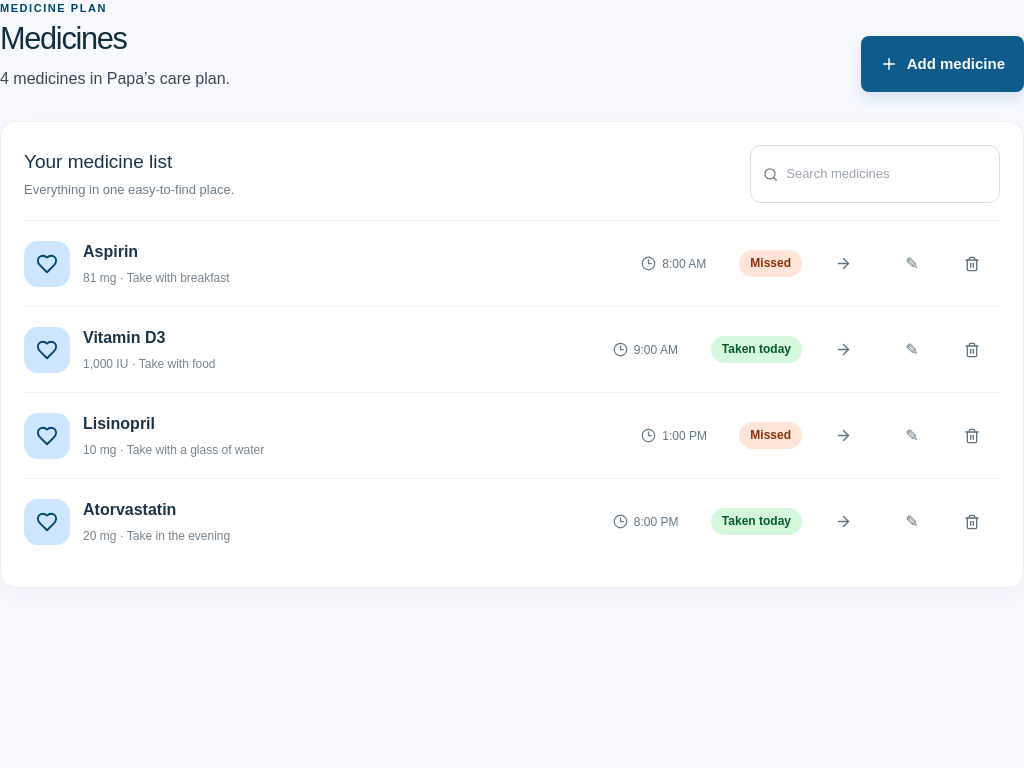
Test: medicine editor › shows accessible errors rather than saving invalid medicine fields
Click the button "Add medicine".
click(942, 64)  # box [861,36,1023,92]
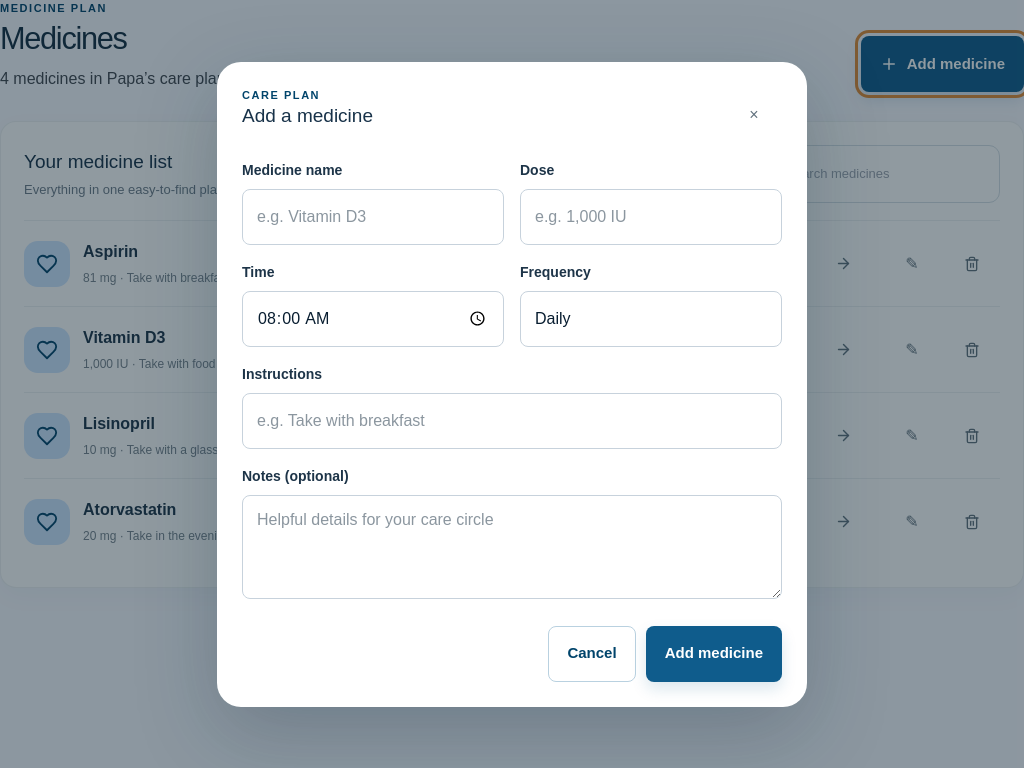
Type "<script>" into the field labelled "Medicine name".
click(373, 216); type("<script>")  # box [242,188,504,244]
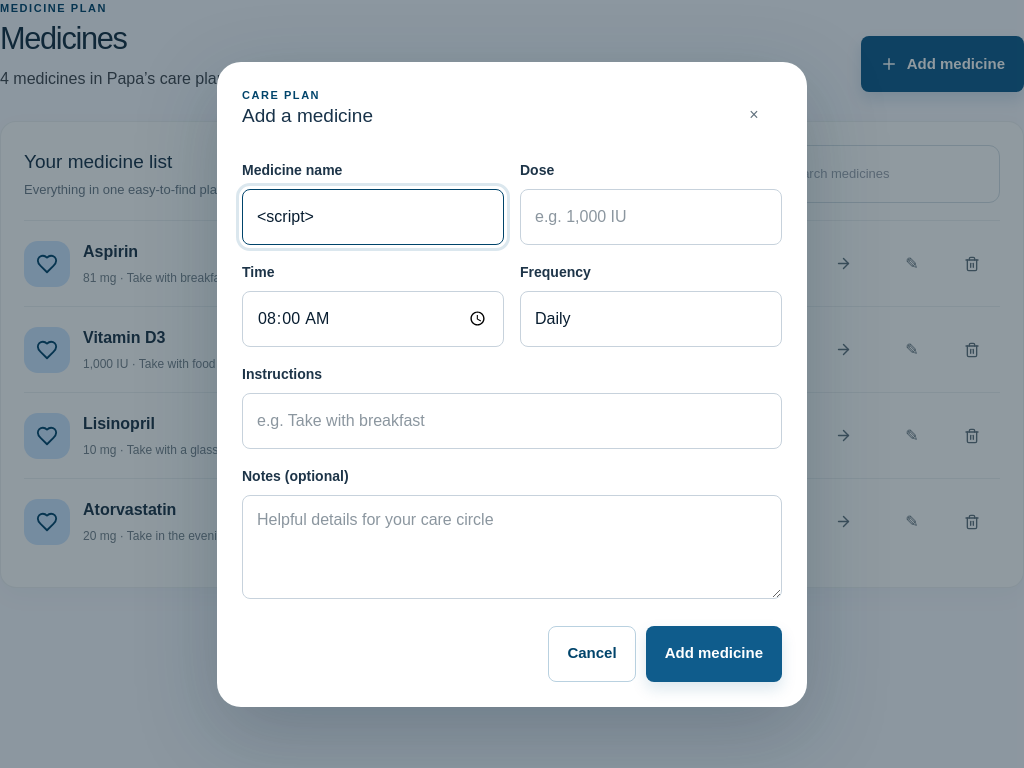
Type "!!!" into the field labelled "Dose".
click(651, 216); type("!!!")  # box [520,188,782,244]
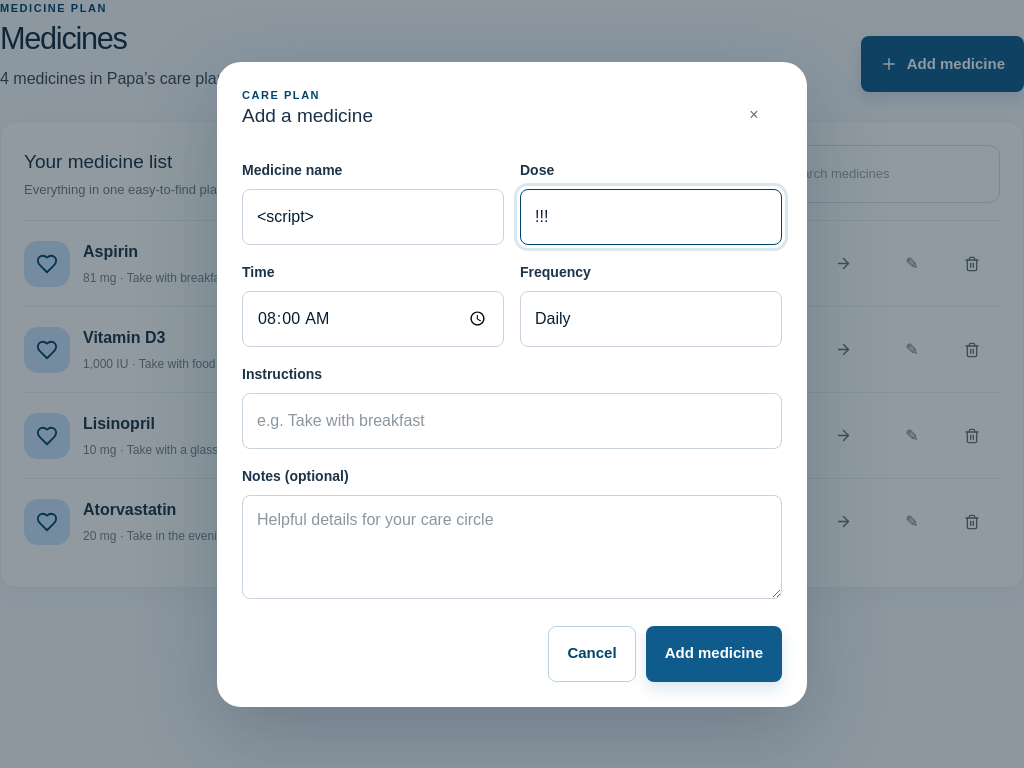
Click the button "Add medicine".
click(714, 654)  # box [646,626,782,682]
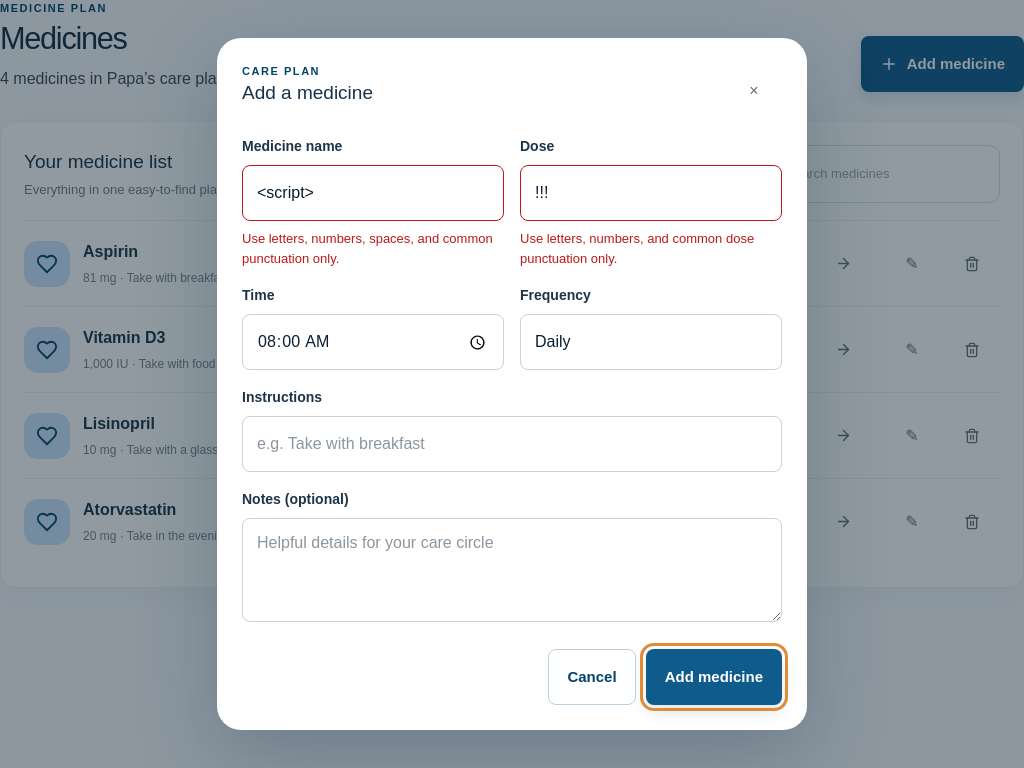
Check: the text "Use letters, numbers, spaces, and common punctuation only." is shown, box [242,229,504,268]
